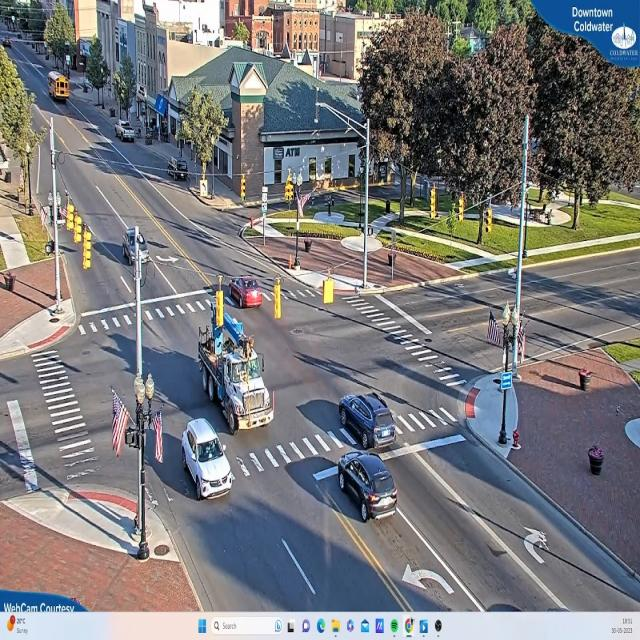bus: (48, 74, 71, 100)
car: (338, 452, 401, 523), (182, 418, 235, 501), (339, 394, 398, 450), (228, 278, 263, 310), (124, 226, 148, 268), (117, 124, 137, 143)
truck: (197, 308, 277, 433)
